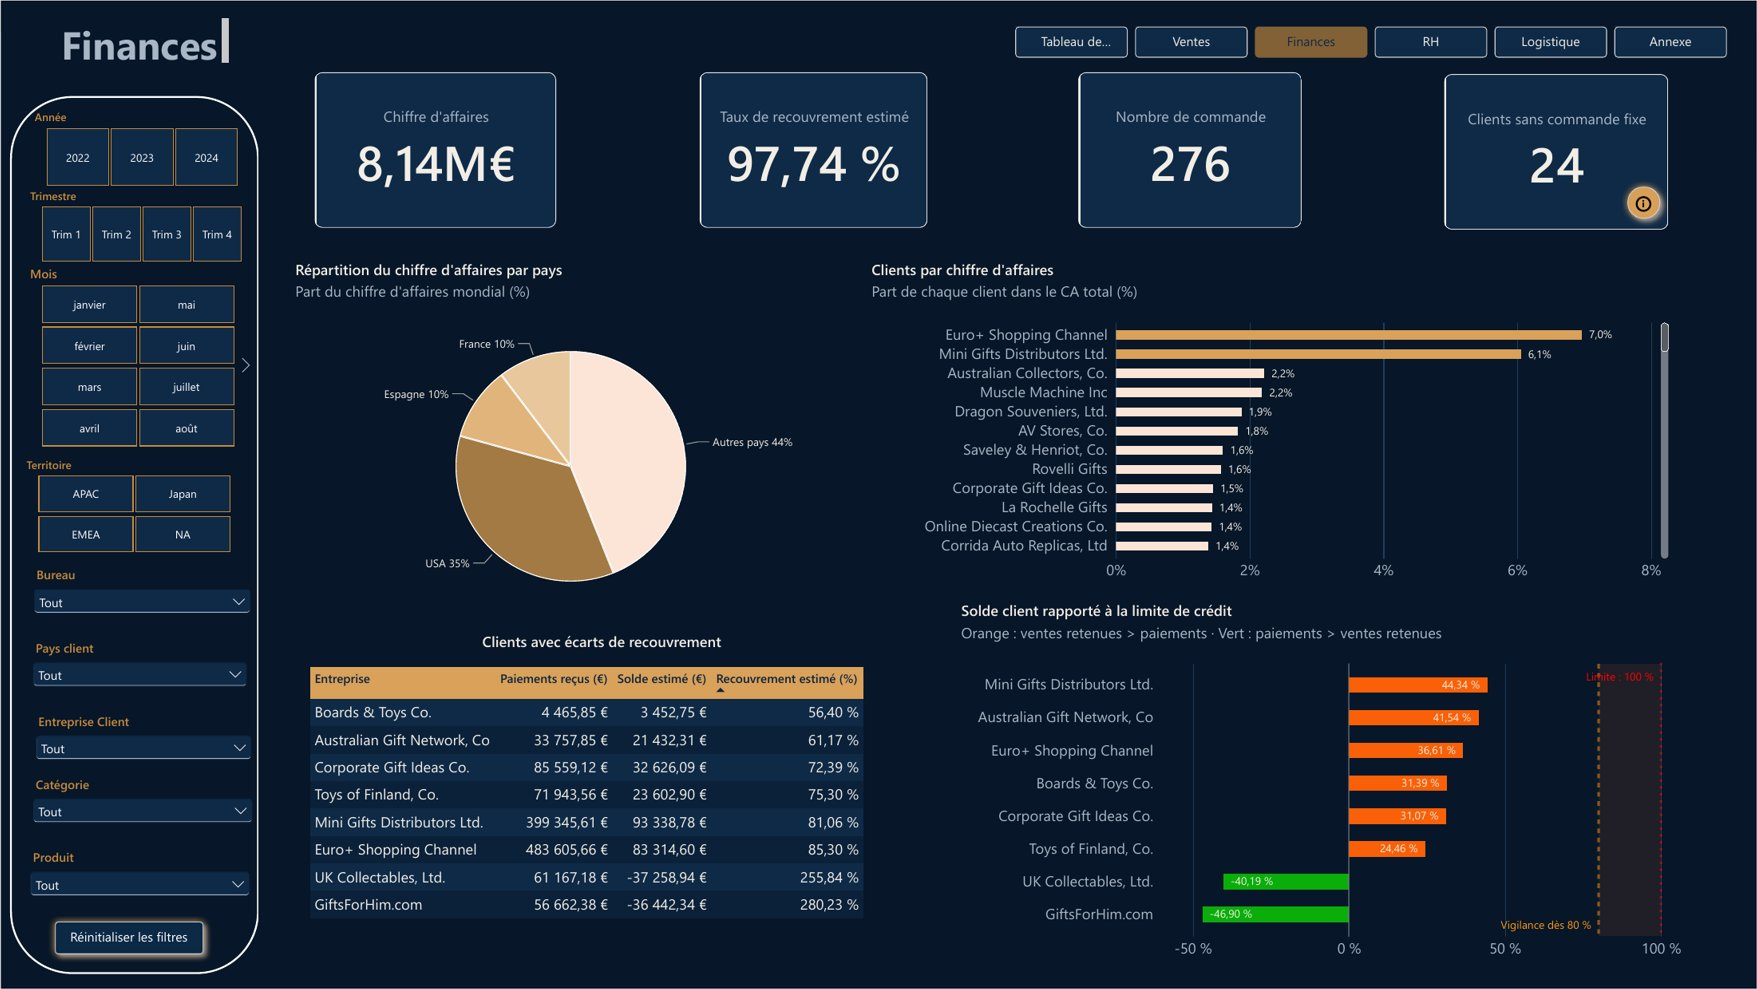

What the dashboard file says about the page in this screenshot:
{"tool":"powerbi","page":{"name":"Finances","canvas":[1920,1080],"ordinal":2},"visuals":[{"type":"shape","box":[0,95.8,291.7,976.7],"z":0},{"type":"clusteredBarChart","title":"Clients par chiffre d''affaires","fields":{"Category":["dim_customers.CustomerName"],"Y":["_Measure.Part chiffre affaire"]},"box":[941.7,275.3,891.1,372.4],"z":1000},{"type":"pieChart","title":"Répartition du chiffre d''affaires par pays","fields":{"Category":["dim_customers.groupe"],"Y":["_Measure.Part CA par groupe pays"]},"box":[312.2,275.4,621.7,406.2],"z":2000},{"type":"clusteredBarChart","title":"Solde client rapporté à la limite de crédit","fields":{"Category":["dim_customers.CustomerName"],"Y":["_Measure.Utilisation crédit"]},"box":[1040.1,647.7,807.3,413.6],"z":3000},{"type":"pageNavigator","box":[1098.6,20,800,50],"z":4000},{"type":"textbox","box":[55.9,10.8,203.1,69.6],"z":6000},{"type":"tableEx","title":"Clients avec écarts de recouvrement","fields":{"Values":["dim_customers.CustomerName","_Measure_Finances.Paiements recus","_Measure_Finances.Solde estimé","_Measure_Finances.Taux de recouvrement estimé"]},"box":[327,682.5,660.3,343.5],"z":7000},{"type":"cardVisual","fields":{"Data":["_Measure_Ventes.CA"]},"box":[333.4,70,283.7,186],"z":10000},{"type":"cardVisual","fields":{"Data":["_Measure_Finances.Taux de recouvrement estimé"]},"box":[754.3,70,268.9,186],"z":11000},{"type":"cardVisual","fields":{"Data":["_Measure_Finances.Clients sans commande fixe"]},"box":[1568.4,71.8,264.3,185.7],"z":12000},{"type":"actionButton","title":"Voir les entreprises","box":[1759.1,186,73.7,69.1],"z":13000},{"type":"cardVisual","fields":{"Data":["_Measure_Ventes.Nb commande"]},"box":[1167.8,70,264.3,185.7],"z":16000},{"type":"slicer","fields":{"Values":["dim_employee.officeTerritory"]},"box":[10.1,490.9,269.8,122.5],"z":16001},{"type":"slicer","fields":{"Values":["dim_date.date.Variation.Hiérarchie de dates.Année"]},"box":[19.3,111.4,268.9,100.4],"z":16003},{"type":"actionButton","title":"Réinitialiser les filtres","box":[39.6,990.1,200.1,68.7],"z":16004},{"type":"slicer","fields":{"Values":["dim_date.date.Variation.Hiérarchie de dates.Mois"]},"box":[13.8,281.8,269.8,215.5],"z":16006},{"type":"slicer","fields":{"Values":["dim_date.date.Variation.Hiérarchie de dates.Trimestre"]},"box":[14.2,196.6,277.9,98.3],"z":16011},{"type":"slicer","fields":{"Values":["dim_employee.officeCity"]},"box":[21.4,611.4,266.2,80.1],"z":16012},{"type":"slicer","fields":{"Values":["dim_customers.country"]},"box":[20,691.4,264.3,80.1],"z":16013},{"type":"slicer","fields":{"Values":["dim_produit.productLine"]},"box":[20,840,269.8,80.1],"z":16014},{"type":"slicer","fields":{"Values":["dim_produit.productName"]},"box":[17.1,920,269.8,80.1],"z":16015},{"type":"slicer","fields":{"Values":["dim_customers.CustomerName"]},"box":[22.9,771.4,266.2,83.8],"z":16016}]}

Visuals, with their boxes in screenshot pixels (x1, y1, x2, y2), scaled from the page's 1920x1080 canvas onto the 1757x989 screenshot:
shape: [x1=0, y1=88, x2=267, y2=982]
"Clients par chiffre d''affaires" clusteredBarChart: [x1=862, y1=252, x2=1677, y2=593]
"Répartition du chiffre d''affaires par pays" pieChart: [x1=286, y1=252, x2=855, y2=624]
"Solde client rapporté à la limite de crédit" clusteredBarChart: [x1=952, y1=593, x2=1691, y2=972]
pageNavigator: [x1=1005, y1=18, x2=1737, y2=64]
textbox: [x1=51, y1=10, x2=237, y2=74]
"Clients avec écarts de recouvrement" tableEx: [x1=299, y1=625, x2=903, y2=940]
cardVisual - _Measure_Ventes.CA: [x1=305, y1=64, x2=565, y2=234]
cardVisual - _Measure_Finances.Taux de recouvrement estimé: [x1=690, y1=64, x2=936, y2=234]
cardVisual - _Measure_Finances.Clients sans commande fixe: [x1=1435, y1=66, x2=1677, y2=236]
"Voir les entreprises" actionButton: [x1=1610, y1=170, x2=1677, y2=234]
cardVisual - _Measure_Ventes.Nb commande: [x1=1069, y1=64, x2=1311, y2=234]
slicer - dim_employee.officeTerritory: [x1=9, y1=450, x2=256, y2=562]
slicer - dim_date.date.Variation.Hiérarchie de dates.Année: [x1=18, y1=102, x2=264, y2=194]
"Réinitialiser les filtres" actionButton: [x1=36, y1=907, x2=219, y2=970]
slicer - dim_date.date.Variation.Hiérarchie de dates.Mois: [x1=13, y1=258, x2=260, y2=455]
slicer - dim_date.date.Variation.Hiérarchie de dates.Trimestre: [x1=13, y1=180, x2=267, y2=270]
slicer - dim_employee.officeCity: [x1=20, y1=560, x2=263, y2=633]
slicer - dim_customers.country: [x1=18, y1=633, x2=260, y2=706]
slicer - dim_produit.productLine: [x1=18, y1=769, x2=265, y2=843]
slicer - dim_produit.productName: [x1=16, y1=842, x2=263, y2=916]
slicer - dim_customers.CustomerName: [x1=21, y1=706, x2=265, y2=783]
